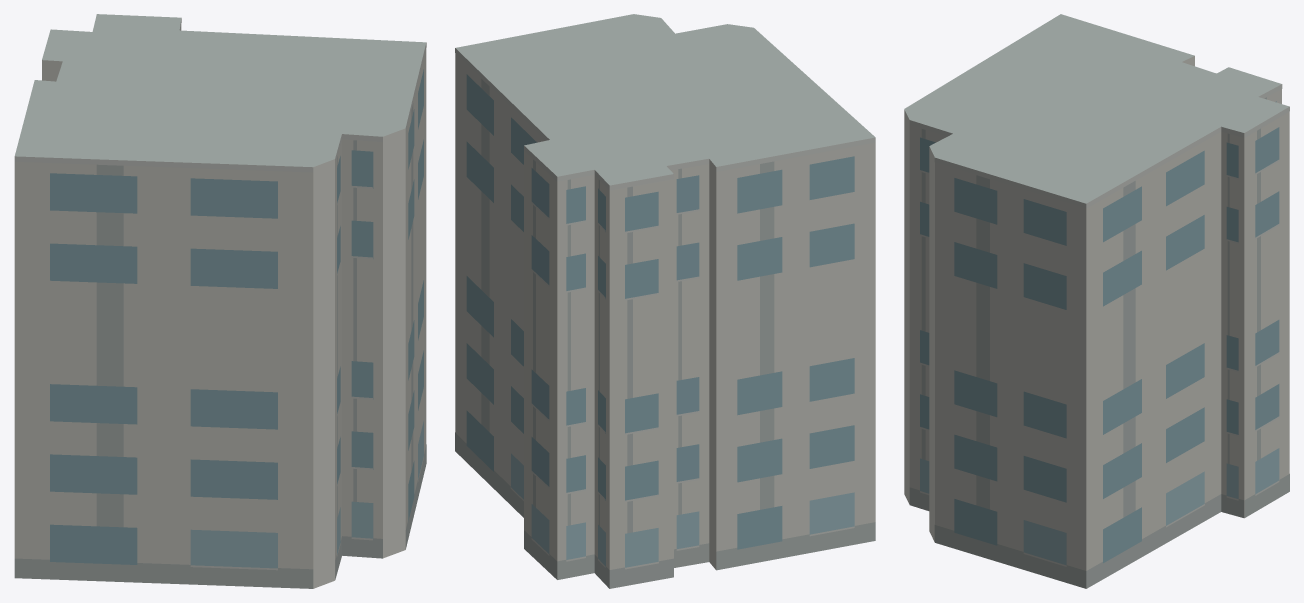
Rendered from survey-upis-32808861.glb.
3 renders of one model, left to right at view 1: azimuth 30°, elevation 25°; view 2: azimuth 150°, elevation 25°; view 3: azimuth 270°, elevation 25°, orthographic. The views are drawn at different scales.
Parts seen in each view (by area): view 1: survey-upis-32808861.tmp; view 2: survey-upis-32808861.tmp; view 3: survey-upis-32808861.tmp.
Boxes of the visible parts, bbox=[...] form: survey-upis-32808861.tmp: bbox=[14, 14, 426, 588]; survey-upis-32808861.tmp: bbox=[455, 14, 875, 588]; survey-upis-32808861.tmp: bbox=[904, 14, 1289, 588].
Bounding box in the file's own units: 20.08 × 19 × 17.24.
